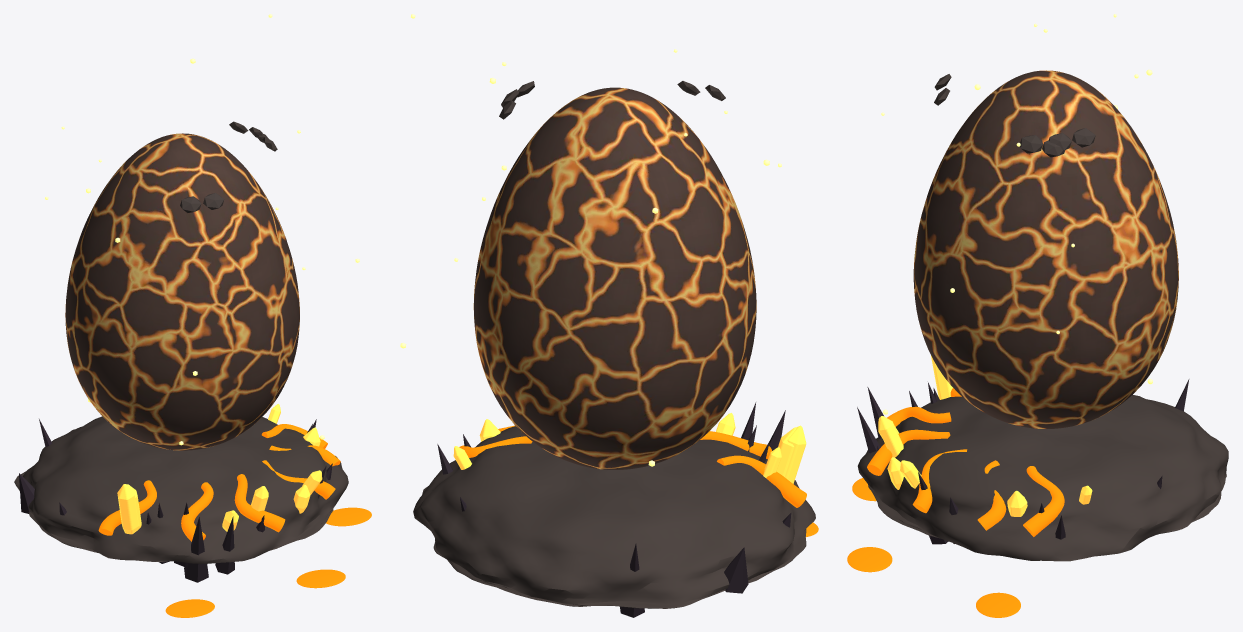
File: moltencoreegg.glb
3 views of the same model, side by side, from view 1: azimuth 30°, elevation 25°; view 2: azimuth 150°, elevation 25°; view 3: azimuth 270°, elevation 25° (orthographic). The views are drawn at different scales.
Parts seen in each view (by area): view 1: MoltenCoreEgg_Body, MoltenCoreEgg_RockBase, MoltenCoreEgg_LavaFlow.002, MoltenCoreEgg_BaseCrystal.006, MoltenCoreEgg_LavaFlow.001, MoltenCoreEgg_ObsidianSpike.011, MoltenCoreEgg_LavaPool.001, MoltenCoreEgg_LavaPool, MoltenCoreEgg_LavaFlow, MoltenCoreEgg_LavaPool.002; view 2: MoltenCoreEgg_Body, MoltenCoreEgg_RockBase, MoltenCoreEgg_LavaFlow, MoltenCoreEgg_ObsidianSpike.007, MoltenCoreEgg_BaseCrystal.006, MoltenCoreEgg_LavaFlow.001; view 3: MoltenCoreEgg_Body, MoltenCoreEgg_RockBase, MoltenCoreEgg_LavaFlow.005, MoltenCoreEgg_LavaFlow.002, MoltenCoreEgg_LavaPool.001, MoltenCoreEgg_LavaPool.002, MoltenCoreEgg_LavaFlow.001, MoltenCoreEgg_LavaFlow.004, MoltenCoreEgg_LavaFlow.003, MoltenCoreEgg_BaseCrystal.007.
Part boxes in pixels (x1=…): MoltenCoreEgg_Body: x1=65, y1=133, x2=299, y2=450; MoltenCoreEgg_RockBase: x1=14, y1=416, x2=348, y2=563; MoltenCoreEgg_LavaFlow.002: x1=234, y1=474, x2=285, y2=532; MoltenCoreEgg_BaseCrystal.006: x1=117, y1=484, x2=138, y2=534; MoltenCoreEgg_LavaFlow.001: x1=181, y1=482, x2=213, y2=541; MoltenCoreEgg_ObsidianSpike.011: x1=184, y1=517, x2=208, y2=582; MoltenCoreEgg_LavaPool.001: x1=296, y1=569, x2=345, y2=588; MoltenCoreEgg_LavaPool: x1=165, y1=599, x2=214, y2=617; MoltenCoreEgg_LavaFlow: x1=98, y1=480, x2=156, y2=535; MoltenCoreEgg_LavaPool.002: x1=326, y1=507, x2=371, y2=526; MoltenCoreEgg_Body: x1=473, y1=87, x2=756, y2=469; MoltenCoreEgg_RockBase: x1=413, y1=426, x2=815, y2=608; MoltenCoreEgg_LavaFlow: x1=717, y1=455, x2=806, y2=507; MoltenCoreEgg_ObsidianSpike.007: x1=724, y1=547, x2=748, y2=593; MoltenCoreEgg_BaseCrystal.006: x1=785, y1=425, x2=806, y2=483; MoltenCoreEgg_LavaFlow.001: x1=700, y1=431, x2=771, y2=459; MoltenCoreEgg_Body: x1=913, y1=70, x2=1178, y2=428; MoltenCoreEgg_RockBase: x1=857, y1=395, x2=1228, y2=561; MoltenCoreEgg_LavaFlow.005: x1=1023, y1=466, x2=1064, y2=536; MoltenCoreEgg_LavaFlow.002: x1=867, y1=429, x2=950, y2=475; MoltenCoreEgg_LavaPool.001: x1=847, y1=547, x2=892, y2=572; MoltenCoreEgg_LavaPool.002: x1=976, y1=592, x2=1020, y2=617; MoltenCoreEgg_LavaFlow.001: x1=887, y1=406, x2=951, y2=426; MoltenCoreEgg_LavaFlow.004: x1=977, y1=460, x2=1006, y2=530; MoltenCoreEgg_LavaFlow.003: x1=912, y1=449, x2=967, y2=513; MoltenCoreEgg_BaseCrystal.007: x1=878, y1=416, x2=903, y2=457.
Size of the model in its own units: 3.87 by 5.54 by 3.65.
Materials: 6 (1 with a texture image).
